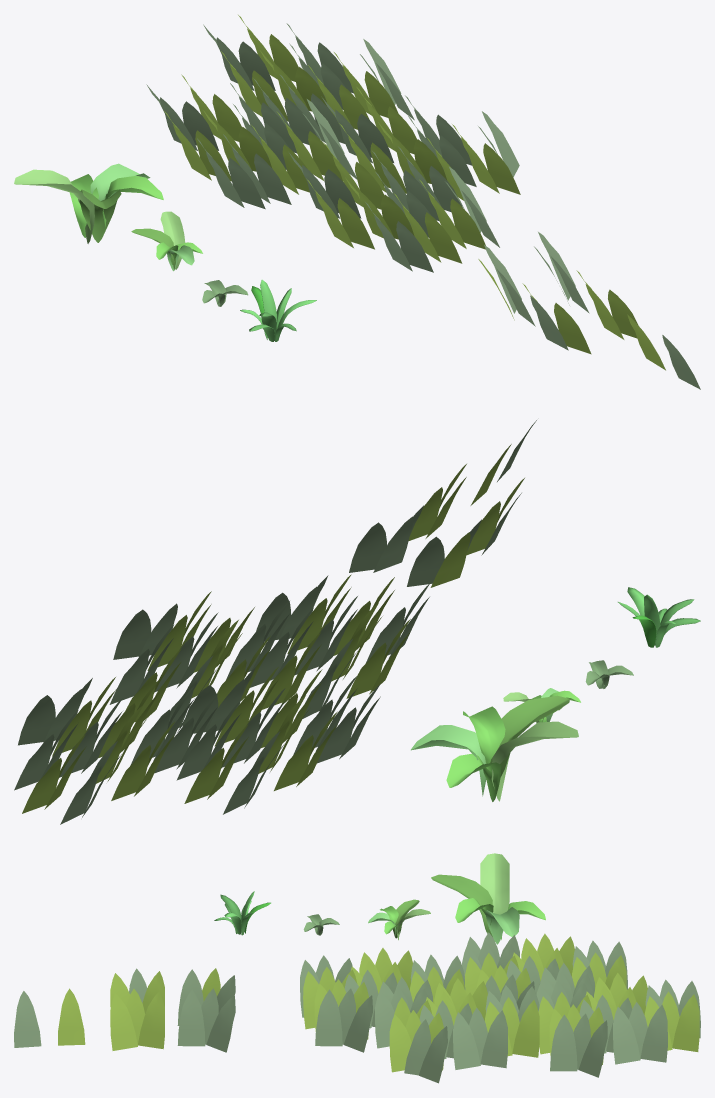
File: grass.fbx
3 renders of one model, top to bottom at view 1: azimuth 30°, elevation 25°; view 2: azimuth 150°, elevation 25°; view 3: azimuth 270°, elevation 25°, orthographic. The views are drawn at different scales.
Visible parts, largest first — view 1: Cube.104, Cube.004, Cube.002, Cube.007, Cube.010, Cube.005, Cube.001, Cube.012, Cube.011, Cube.008, Cube.009, Cube.013; view 2: Cube.104, Cube.005, Cube.001, Cube.010, Cube.007, Cube.011, Cube.002, Cube.012, Cube.009, Cube.004; view 3: Cube.104, Cube.002, Cube.001, Cube.007, Cube.005, Cube.004, Cube.003, Cube.008, Cube.010, Cube.011, Cube.012, Cube.009.
Boxes of the visible parts, box(x1,y1,x2,y2) form: Cube.104: box(146, 15, 520, 272); Cube.004: box(522, 283, 591, 354); Cube.002: box(576, 270, 638, 339); Cube.007: box(14, 169, 94, 243); Cube.010: box(79, 189, 121, 242); Cube.005: box(478, 245, 535, 326); Cube.001: box(534, 232, 589, 313); Cube.012: box(102, 175, 163, 226); Cube.011: box(90, 163, 150, 200); Cube.008: box(662, 335, 700, 389); Cube.009: box(69, 174, 98, 237); Cube.013: box(160, 211, 185, 269); Cube.104: box(14, 574, 429, 824); Cube.005: box(407, 519, 481, 587); Cube.001: box(349, 505, 423, 572); Cube.010: box(490, 695, 569, 776); Cube.007: box(491, 721, 578, 801); Cube.011: box(411, 725, 486, 796); Cube.002: box(408, 464, 466, 541); Cube.012: box(463, 706, 505, 763); Cube.009: box(446, 753, 501, 801); Cube.004: box(466, 478, 524, 555); Cube.104: box(300, 932, 700, 1083); Cube.002: box(110, 989, 164, 1050); Cube.001: box(177, 988, 235, 1052); Cube.007: box(480, 853, 509, 914); Cube.005: box(177, 968, 235, 1025); Cube.004: box(110, 968, 164, 1013); Cube.003: box(58, 988, 85, 1045); Cube.008: box(14, 991, 41, 1047); Cube.010: box(431, 874, 492, 936); Cube.011: box(485, 907, 519, 944); Cube.012: box(455, 898, 493, 932); Cube.009: box(501, 901, 545, 939).
Bounding box in the file's own units: 1600 × 259 × 2631.
